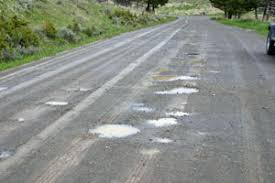pothole: (86, 116, 141, 144), (144, 84, 202, 99), (145, 114, 182, 129), (146, 73, 201, 83), (41, 93, 69, 110), (150, 135, 179, 148)
